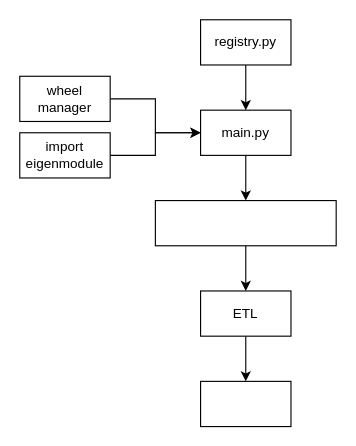
This 356x446 diagram has some shape labels left out. Each missing label, with the centre of its shape:
"Chain Class" goes at point (245, 403).
"generalLLMBenchmark.py" goes at point (245, 222).
